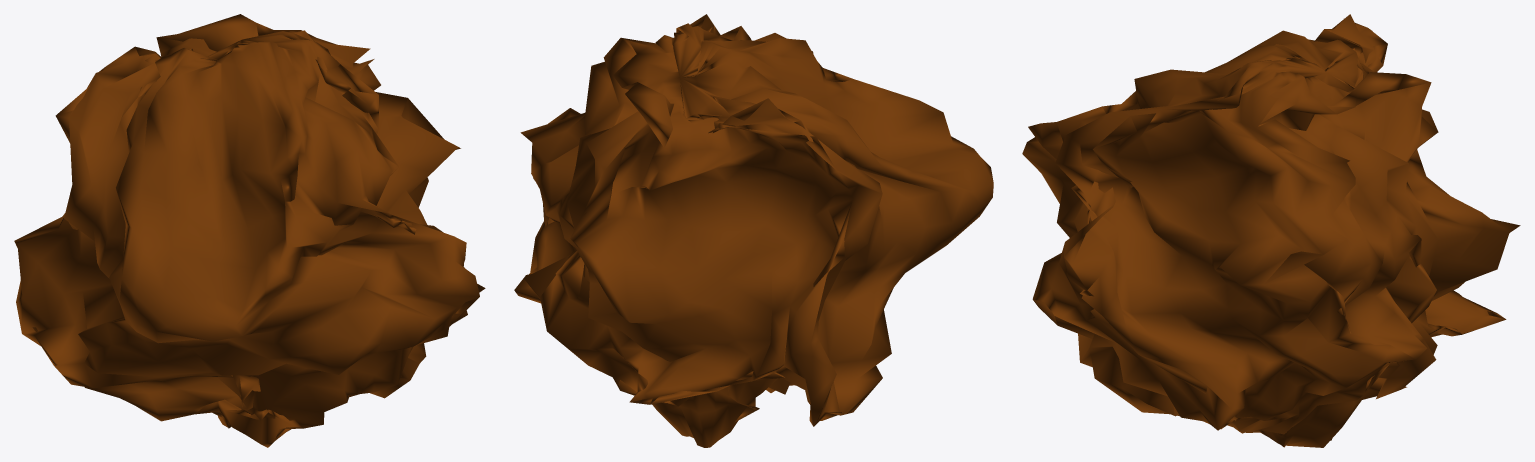
File: Astroid Model 02.FBX
3 renders of one model, left to right at view 1: azimuth 30°, elevation 25°; view 2: azimuth 150°, elevation 25°; view 3: azimuth 270°, elevation 25°, orthographic. The views are drawn at different scales.
Parts seen in each view (by area): view 1: Sphere001; view 2: Sphere001; view 3: Sphere001.
Part boxes in pixels (x1,y1,x2,y2): Sphere001: [14, 14, 485, 447]; Sphere001: [514, 14, 993, 447]; Sphere001: [1022, 14, 1520, 447].
Size of the model in its own units: 109 by 105 by 116.
